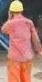hard-hat: (8, 0, 24, 12)
ppe-suit: (0, 13, 39, 80)
